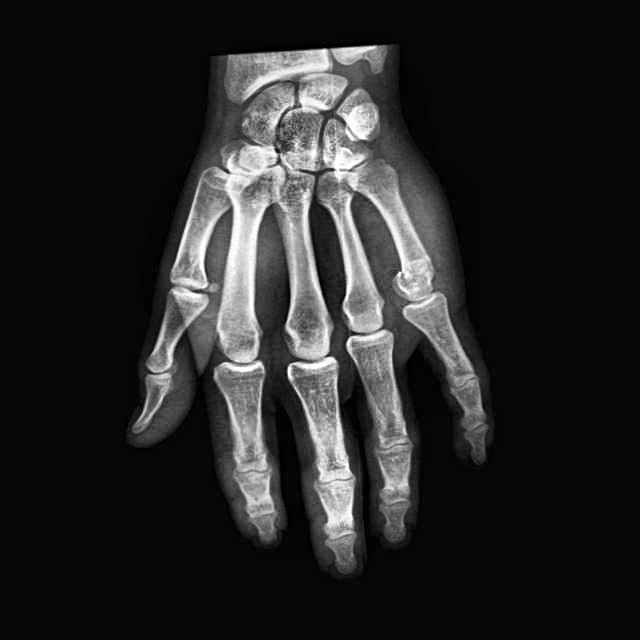Comminuted: (392, 247, 448, 305)
